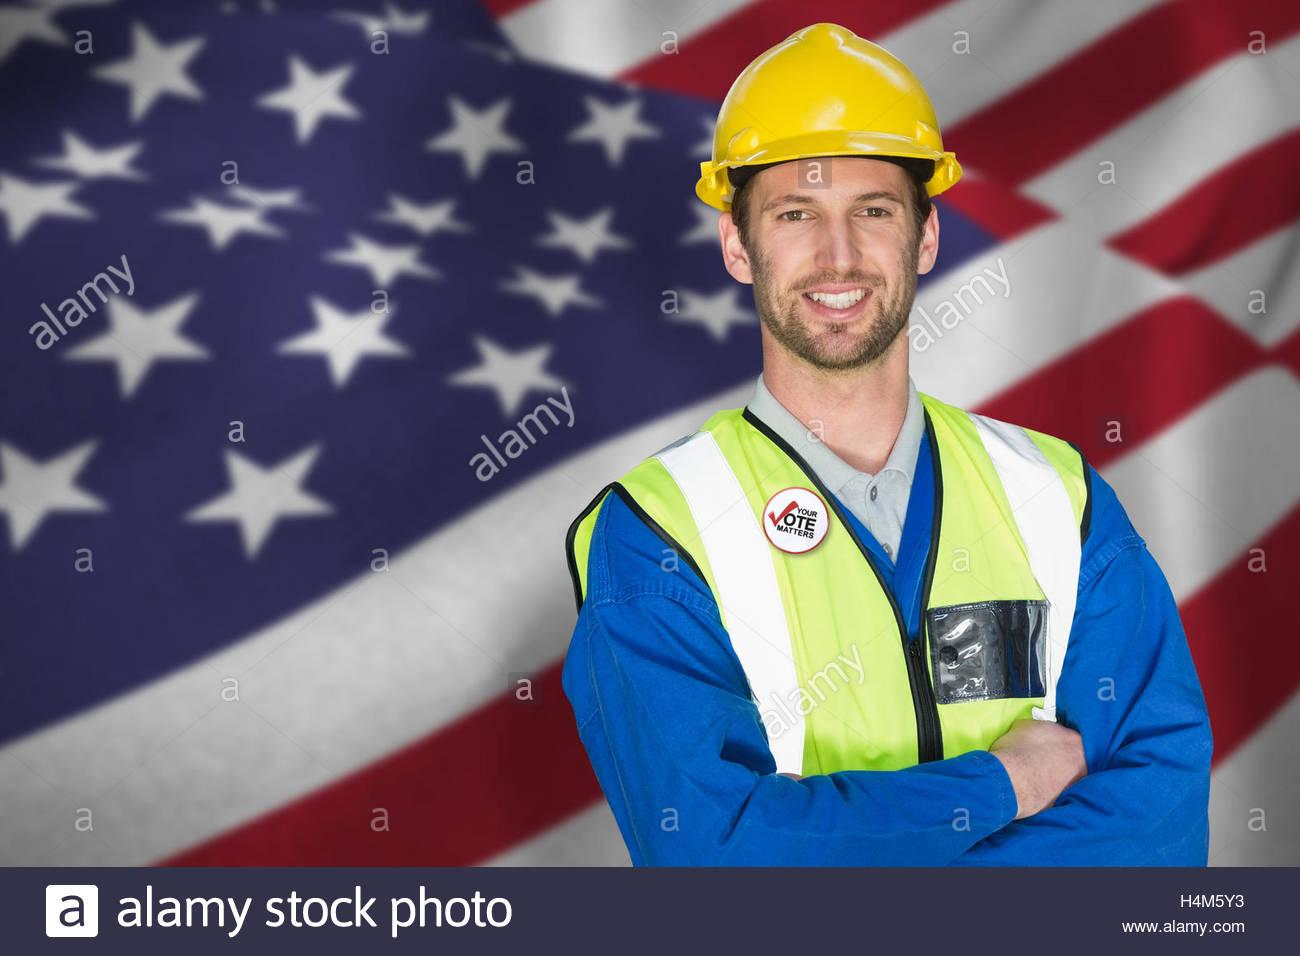helmet: (698, 27, 964, 201)
